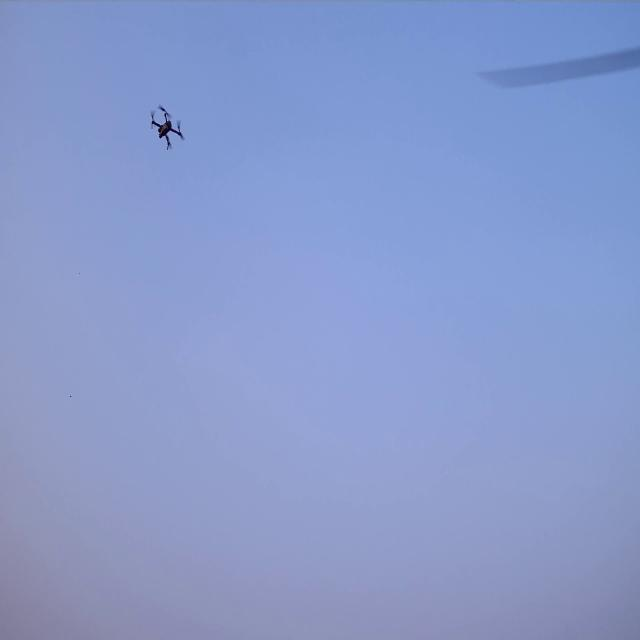UAV: (147, 102, 186, 152)
